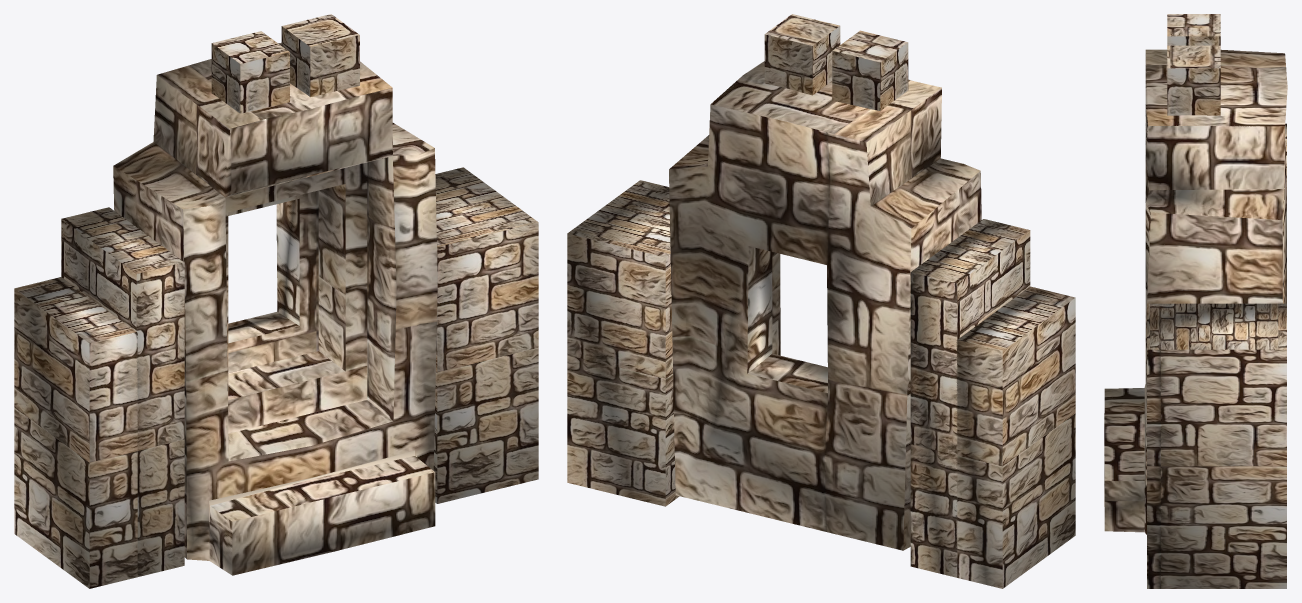
File: puertainca.fbx
3 renders of one model, left to right at view 1: azimuth 30°, elevation 25°; view 2: azimuth 150°, elevation 25°; view 3: azimuth 270°, elevation 25°, orthographic. The views are drawn at different scales.
Visible parts, largest first — view 1: Cube, Cubo.002, Cubo, Cubo.001, Cube.002, Cube.001; view 2: Cube, Cubo.002, Cubo, Cubo.001, Cube.002, Cube.001; view 3: Cubo, Cube, Cube.001, Cube.002.
Part boxes in pixels (box(x1,y1,x2,y2)): Cube: box(113, 42, 437, 575); Cubo.002: box(14, 277, 137, 588); Cubo: box(433, 167, 538, 503); Cubo.001: box(61, 207, 184, 576); Cube.002: box(211, 31, 289, 113); Cube.001: box(281, 14, 359, 97); Cube: box(669, 61, 981, 550); Cubo.002: box(956, 286, 1075, 588); Cubo: box(567, 180, 679, 506); Cubo.001: box(910, 219, 1030, 577); Cube.002: box(832, 30, 908, 111); Cube.001: box(764, 14, 840, 95); Cubo: box(1147, 303, 1286, 588); Cube: box(1104, 49, 1287, 534); Cube.001: box(1167, 45, 1220, 115); Cube.002: box(1167, 14, 1220, 45).
Size of the model in its own units: 355 by 361 by 135.
